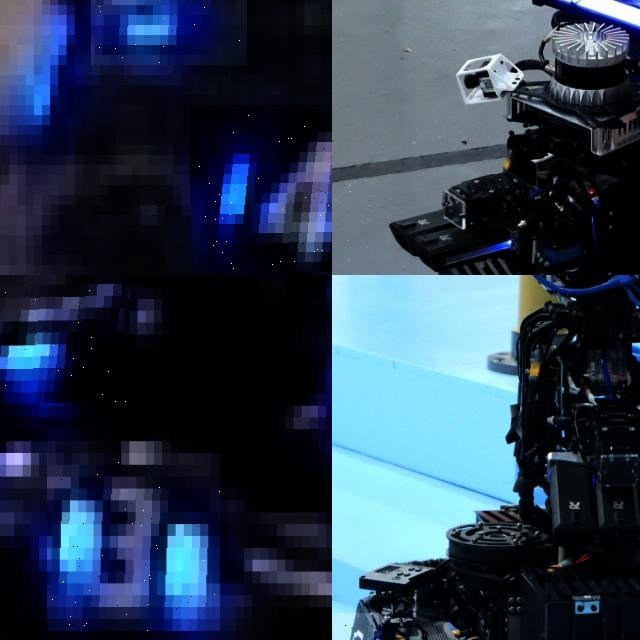B3: (47, 453, 220, 631), (0, 275, 137, 405)
B4: (189, 105, 332, 275), (91, 0, 247, 65)
Bs: (332, 613, 379, 640)
